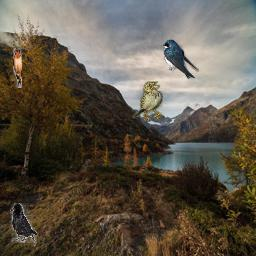Crow: (10, 203, 37, 243)
Sparrow: (131, 81, 163, 121)
Swallow: (163, 39, 199, 79), (13, 48, 22, 88)
